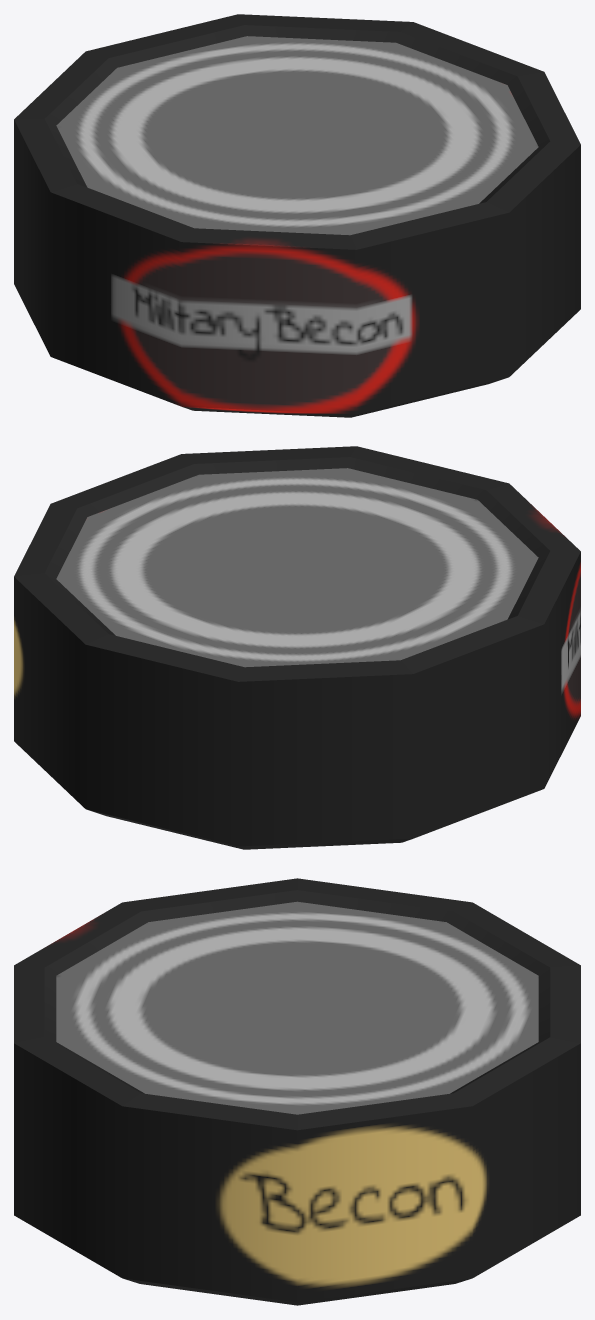
The model's file is Canned_09.fbx.
3 renders of one model, top to bottom at view 1: azimuth 30°, elevation 25°; view 2: azimuth 150°, elevation 25°; view 3: azimuth 270°, elevation 25°, orthographic. The views are drawn at different scales.
Visible parts, largest first — view 1: Canned_09; view 2: Canned_09; view 3: Canned_09.
Boxes of the visible parts, <box> form: Canned_09: <box>14,14,580,417</box>; Canned_09: <box>14,446,580,849</box>; Canned_09: <box>14,878,580,1305</box>.
Bounding box in the file's own units: 17.22 × 6.05 × 16.38.
